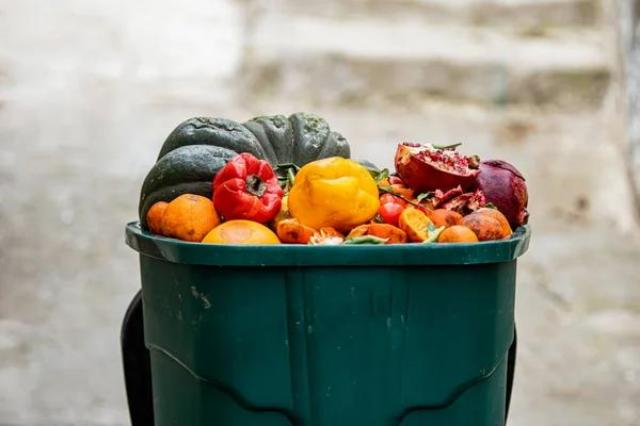Garbage: (129, 112, 528, 245)
